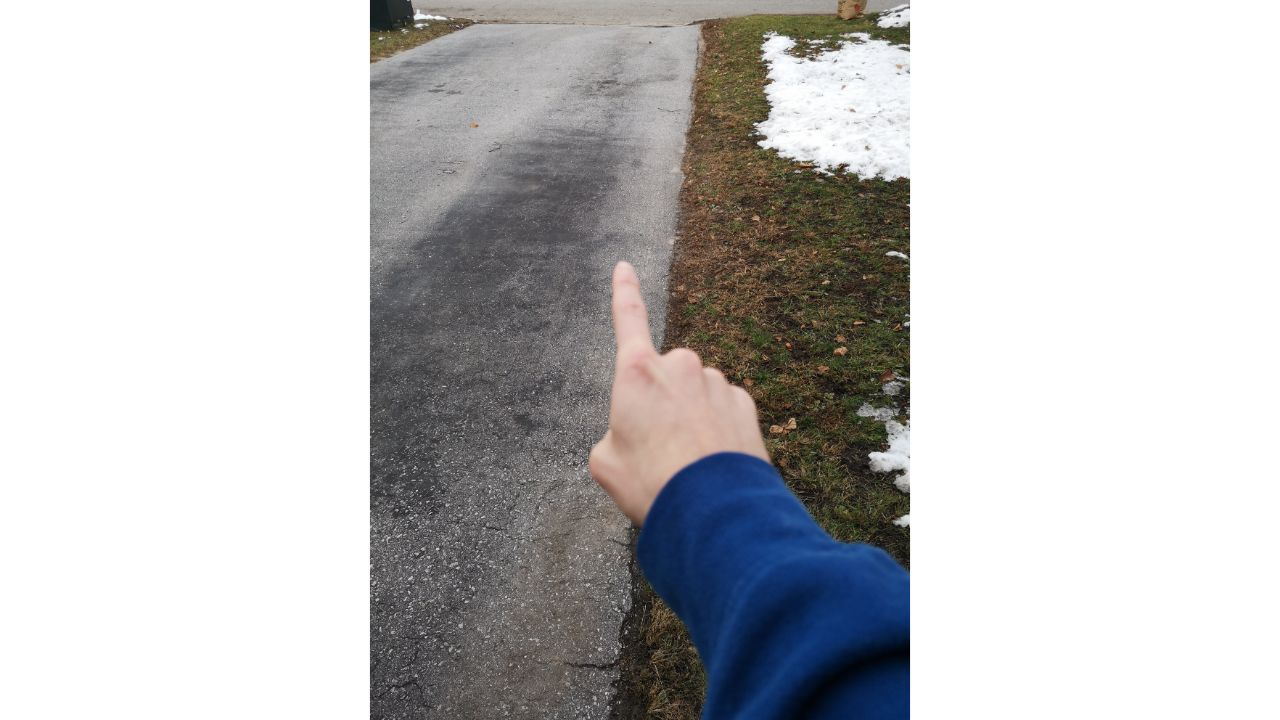finger: (583, 255, 787, 536)
